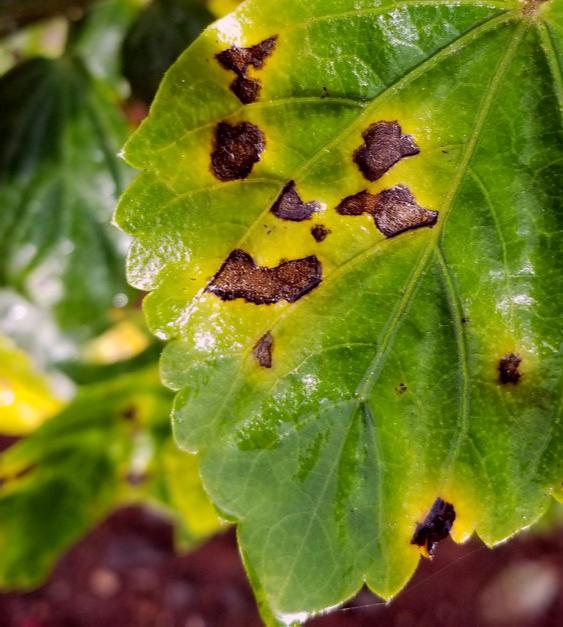Tomato leaf bacterial spot: (95, 0, 563, 611)
